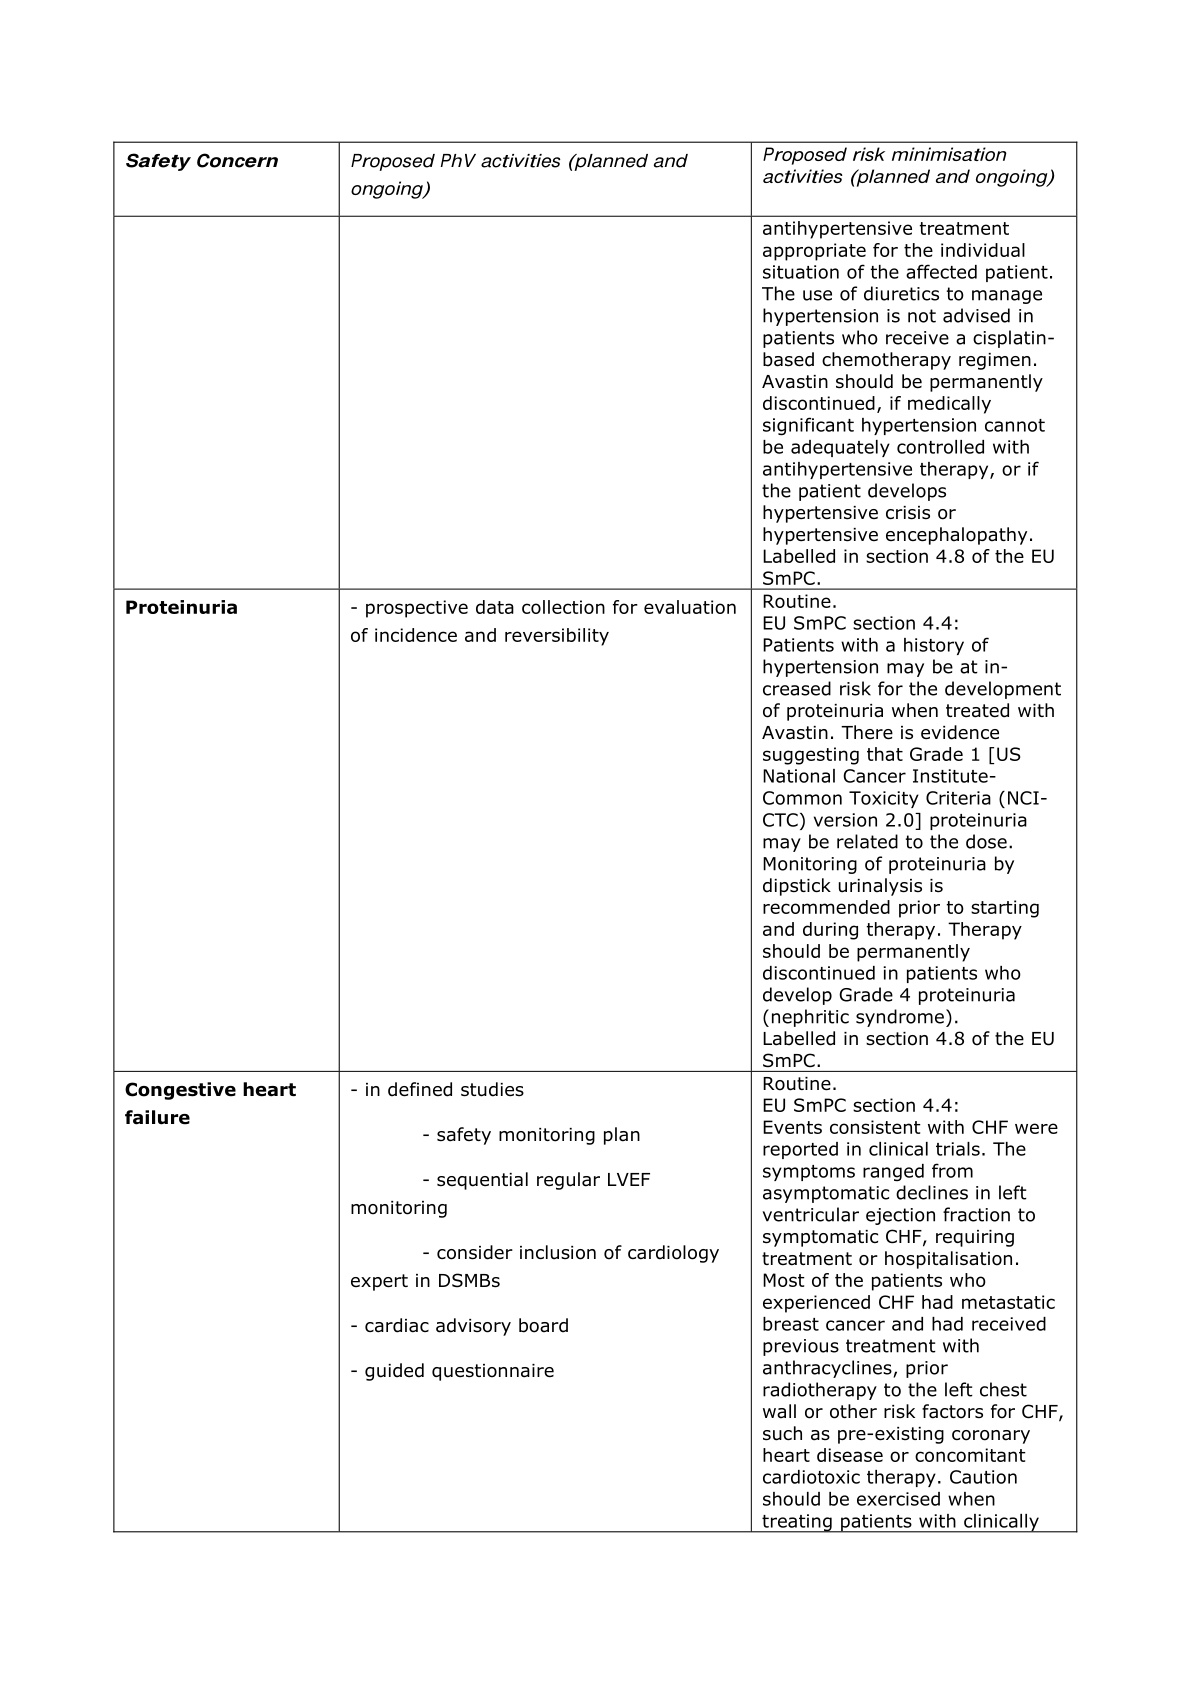full_lined: (108, 138, 1087, 1540)
